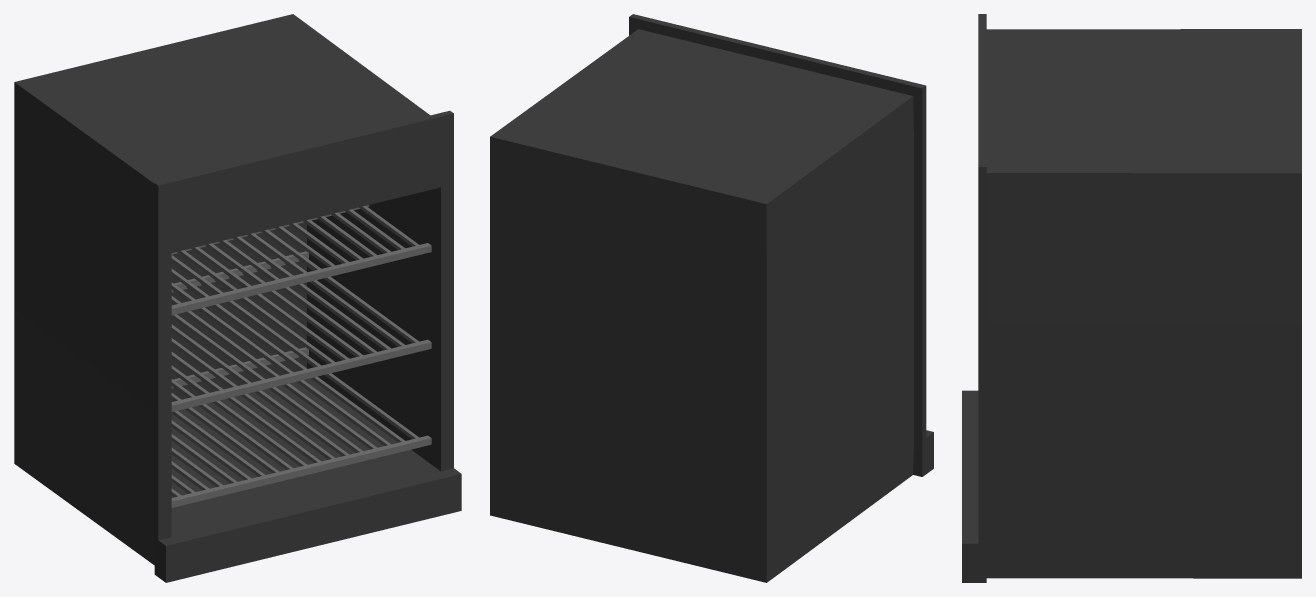
File: Dishwasher1_01.fbx
The picture shows the model from 3 angles, left to right: view 1: azimuth 30°, elevation 25°; view 2: azimuth 150°, elevation 25°; view 3: azimuth 270°, elevation 25°; orthographic projection. The views are drawn at different scales.
Visible parts, largest first — view 1: Dishwasher1_01; view 2: Dishwasher1_01; view 3: Dishwasher1_01.
Boxes of the visible parts, x1=… form: Dishwasher1_01: x1=14, y1=14, x2=461, y2=582; Dishwasher1_01: x1=490, y1=14, x2=933, y2=582; Dishwasher1_01: x1=962, y1=14, x2=1301, y2=582.
Size of the model in its own units: 59.17 by 74.94 by 55.51.
